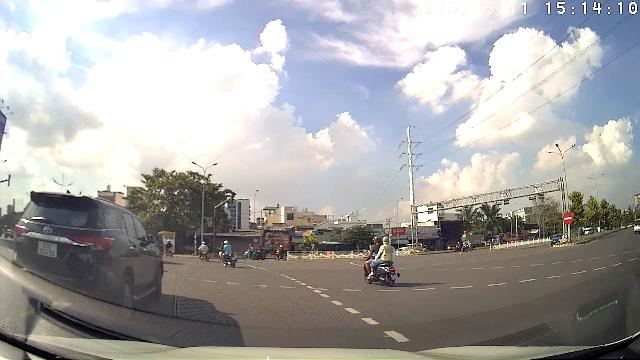102-cam-di-nguoc-chieu: (563, 212, 573, 224)
